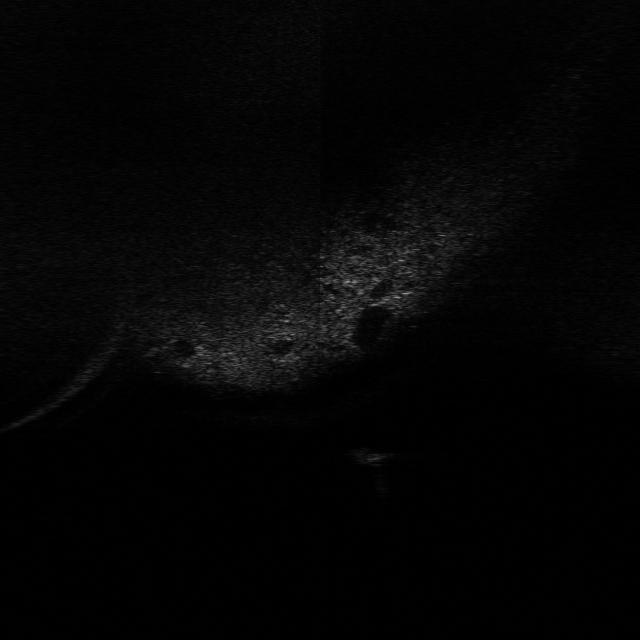cube: (342, 444, 402, 468)
